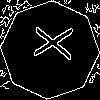X: (25, 25, 73, 60)
